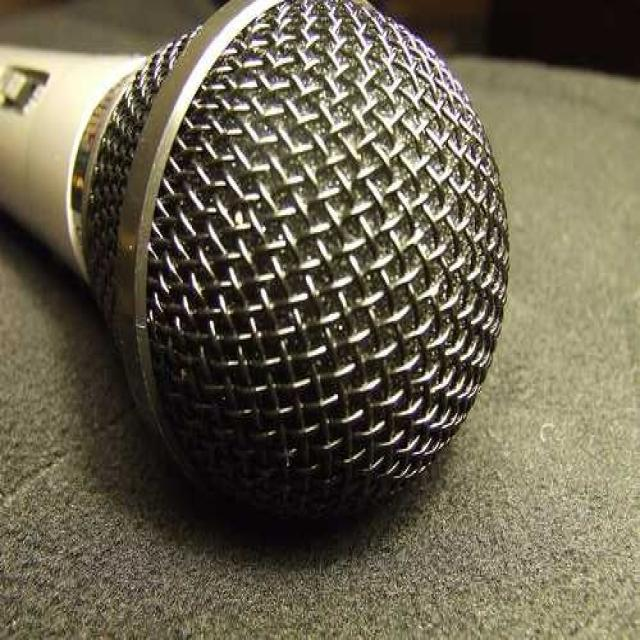microphone: (8, 0, 499, 512)
